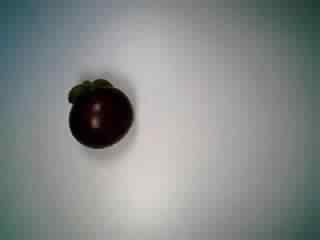mangosteen: (58, 75, 135, 150)
